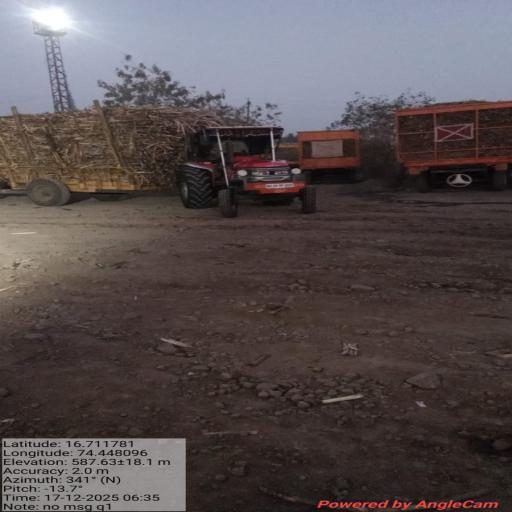number_plate: (266, 183, 294, 188)
